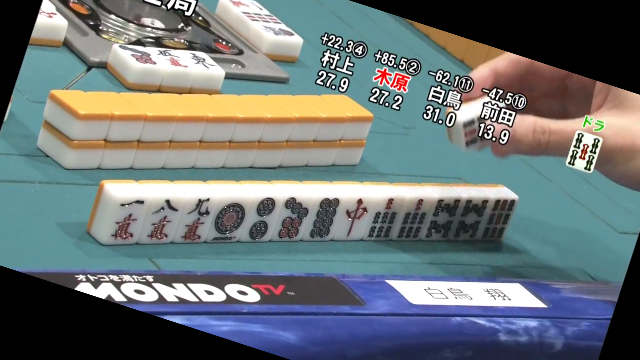Tehai: (93, 174, 521, 250)
